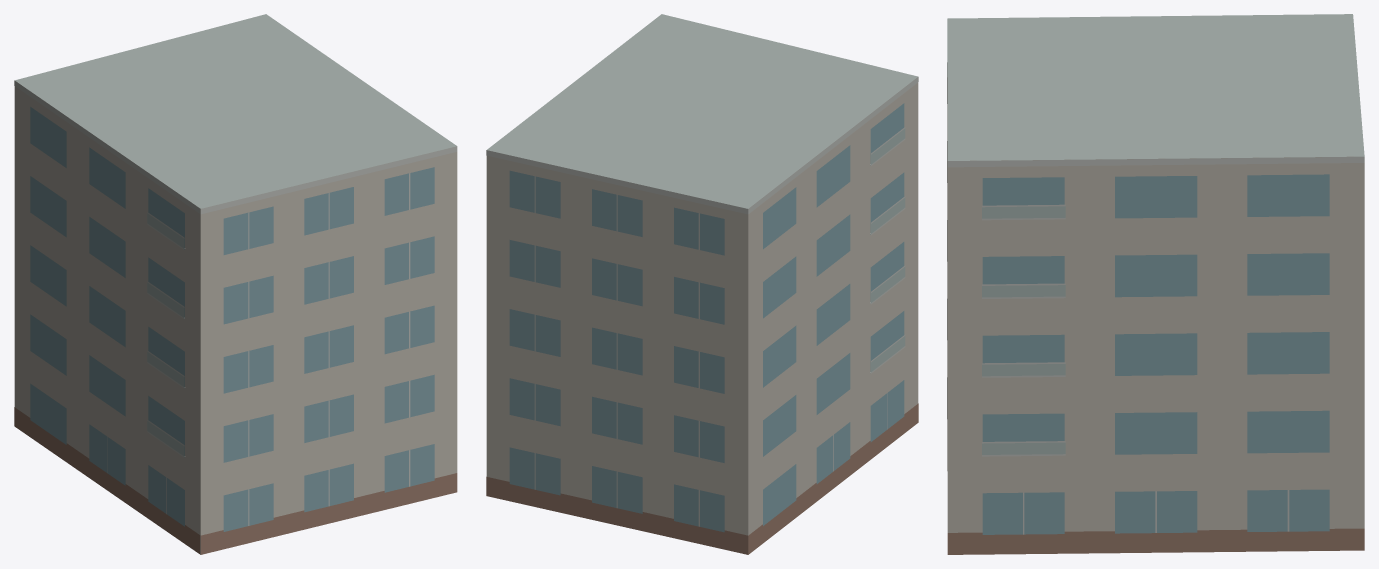
Rendered from survey-upis-32730980.glb.
3 views of the same model, side by side, from view 1: azimuth 30°, elevation 25°; view 2: azimuth 150°, elevation 25°; view 3: azimuth 270°, elevation 25° (orthographic). The views are drawn at different scales.
Visible parts, largest first — view 1: survey-upis-32730980.tmp; view 2: survey-upis-32730980.tmp; view 3: survey-upis-32730980.tmp.
Part boxes in pixels (x1,y1,x2,y2): survey-upis-32730980.tmp: (14,14,457,554); survey-upis-32730980.tmp: (486,14,918,554); survey-upis-32730980.tmp: (947,14,1364,554).
Size of the model in its own units: 12.22 by 15.25 by 14.66.
